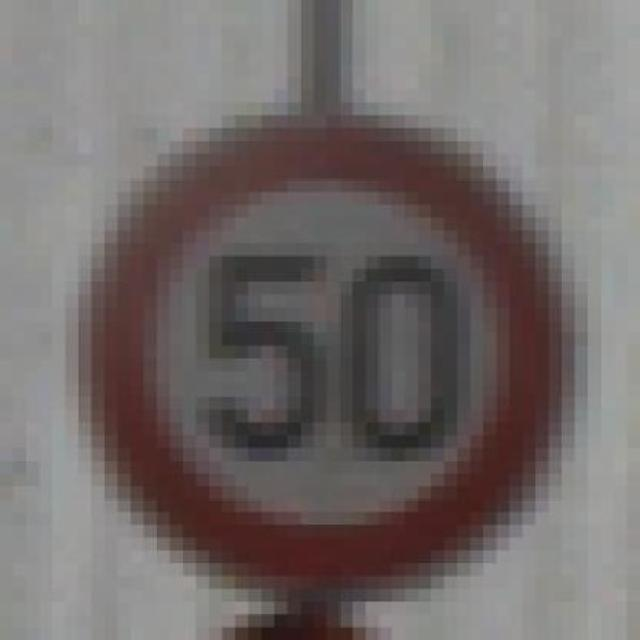forb_speed_over_50: (96, 119, 542, 576)
